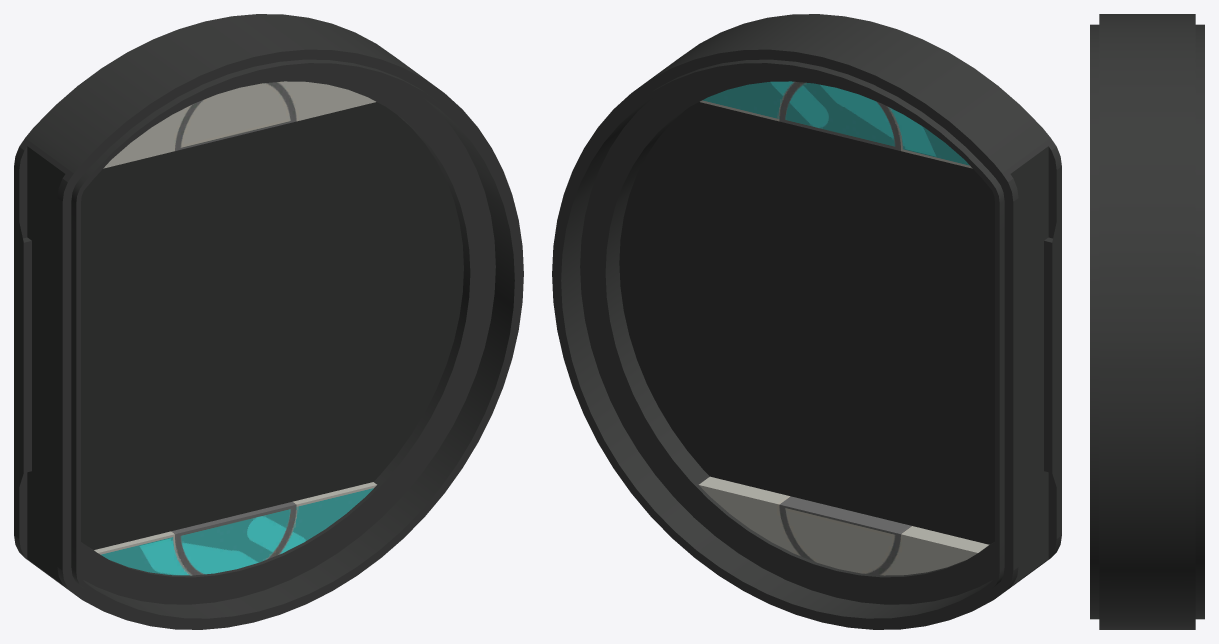
The model's file is EDITOR_door_open.obj.
3 renders of one model, left to right at view 1: azimuth 30°, elevation 25°; view 2: azimuth 150°, elevation 25°; view 3: azimuth 270°, elevation 25°, orthographic.
Parts seen in each view (by area): view 1: body.dmx/door_open.dmx.mesh_0; view 2: body.dmx/door_open.dmx.mesh_0; view 3: body.dmx/door_open.dmx.mesh_0.
Boxes of the visible parts, bbox=[...] form: body.dmx/door_open.dmx.mesh_0: bbox=[14, 14, 523, 629]; body.dmx/door_open.dmx.mesh_0: bbox=[552, 14, 1061, 629]; body.dmx/door_open.dmx.mesh_0: bbox=[1090, 14, 1204, 629].
Size of the model in its own units: 109 by 127 by 23.74.
